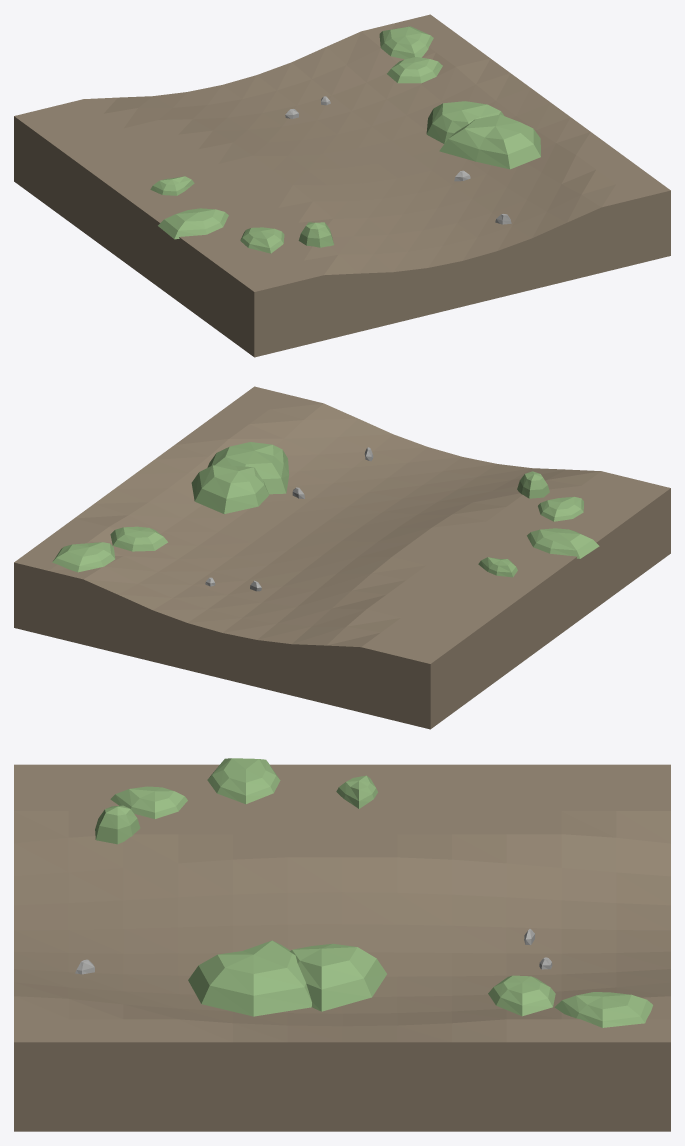
File: dense-temperate-forest-flora-forest-path-tile-961b4a13__28430.glb
The picture shows the model from 3 angles, top to bottom: view 1: azimuth 30°, elevation 25°; view 2: azimuth 150°, elevation 25°; view 3: azimuth 270°, elevation 25°; orthographic projection. The views are drawn at different scales.
Visible parts, largest first — view 1: forest-path-tile; view 2: forest-path-tile; view 3: forest-path-tile.
Part boxes in pixels (bbox=[...]): forest-path-tile: bbox=[14, 14, 670, 357]; forest-path-tile: bbox=[14, 386, 670, 729]; forest-path-tile: bbox=[14, 758, 670, 1131].
Size of the model in its own units: 2.02 by 0.3983 by 2.
